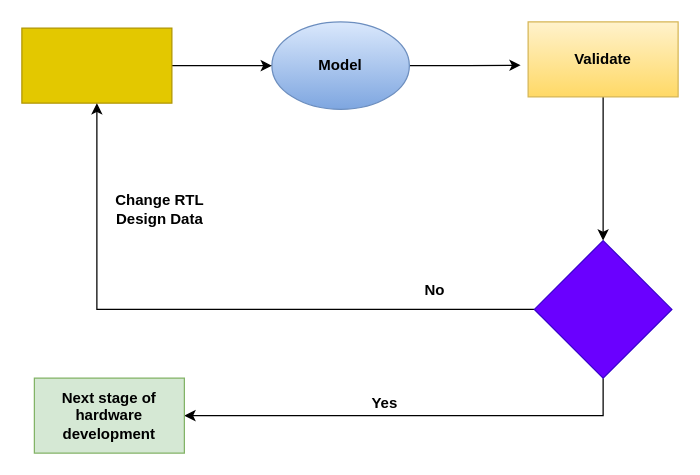
The diagram is 700 pixels wide and 475 high, and some of its shapes have lost their labels. The shapes that lost their labels are listed below. From the top down, each one's centre as x and y in pixels, then its label:
At pixel 96 65: "RTL Design Data".
At pixel 602 308: "PPA Accuracy target met ?".
